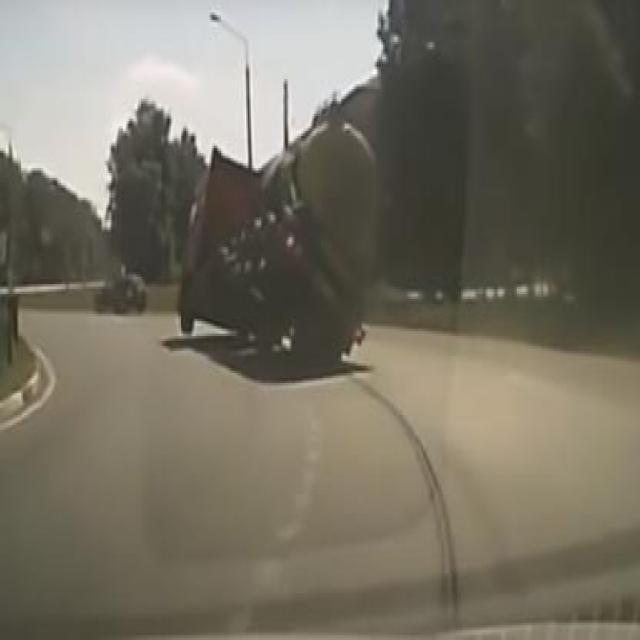accident: (136, 81, 398, 408)
